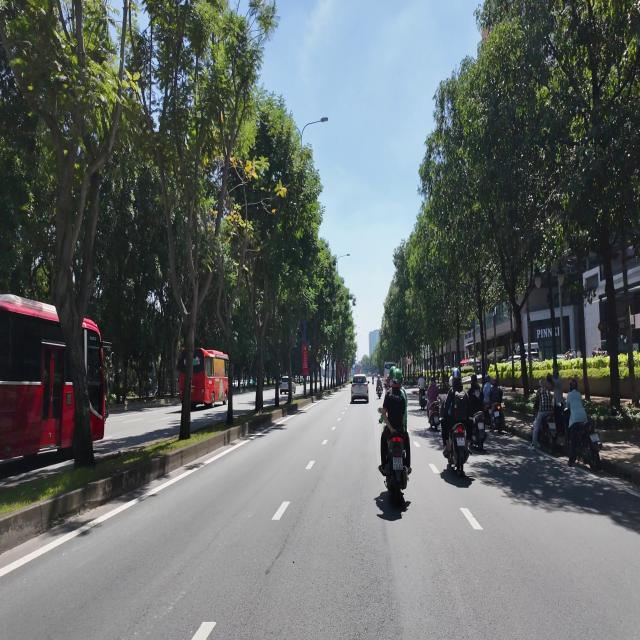car: (351, 375, 368, 402), (292, 382, 295, 393)
motorcycle: (385, 434, 408, 506), (572, 420, 602, 471), (448, 423, 468, 477), (538, 413, 558, 454), (471, 411, 487, 451), (489, 403, 503, 433), (429, 401, 439, 430), (419, 389, 426, 409)
